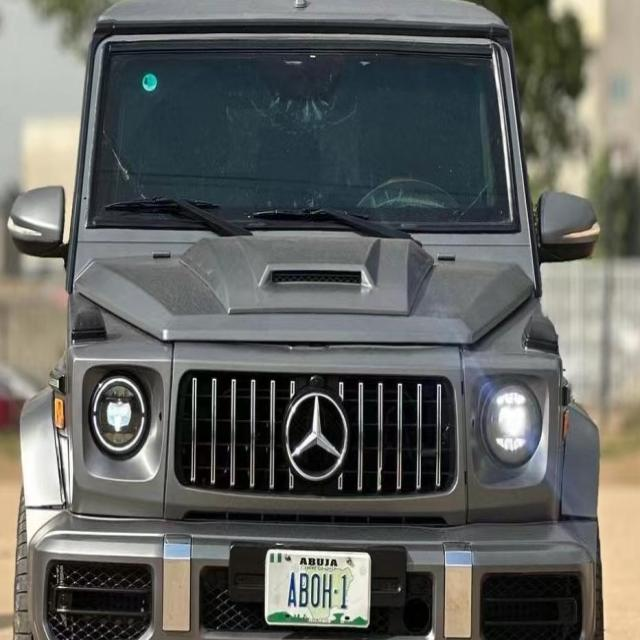Nigerian License Plate - vdataset benjamin-daria: (262, 545, 374, 634)
